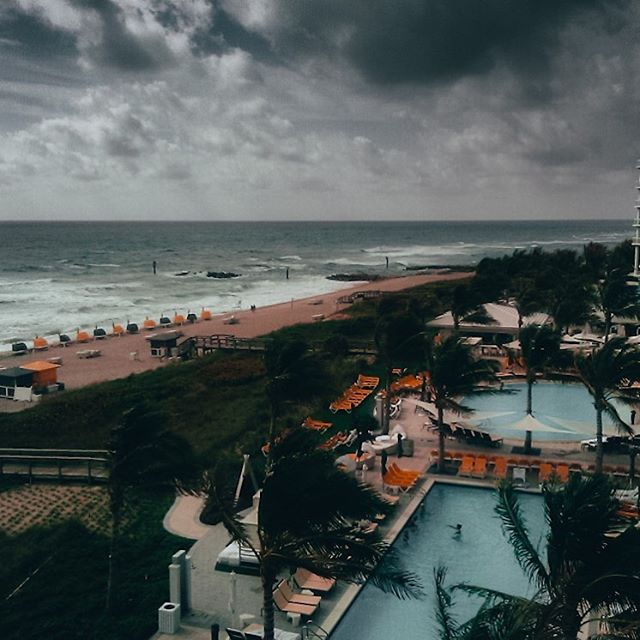pool: (313, 487, 581, 636), (454, 371, 622, 436)
sea: (5, 217, 638, 298)
sky: (1, 1, 629, 222)
tree: (253, 455, 424, 640), (81, 395, 192, 634), (476, 503, 640, 640), (415, 330, 494, 475), (263, 314, 339, 463), (570, 336, 638, 467), (379, 306, 434, 460), (515, 321, 557, 423)
